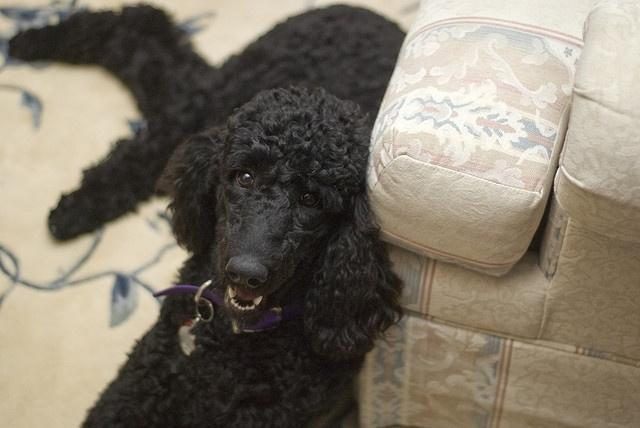dog: (9, 6, 401, 427)
